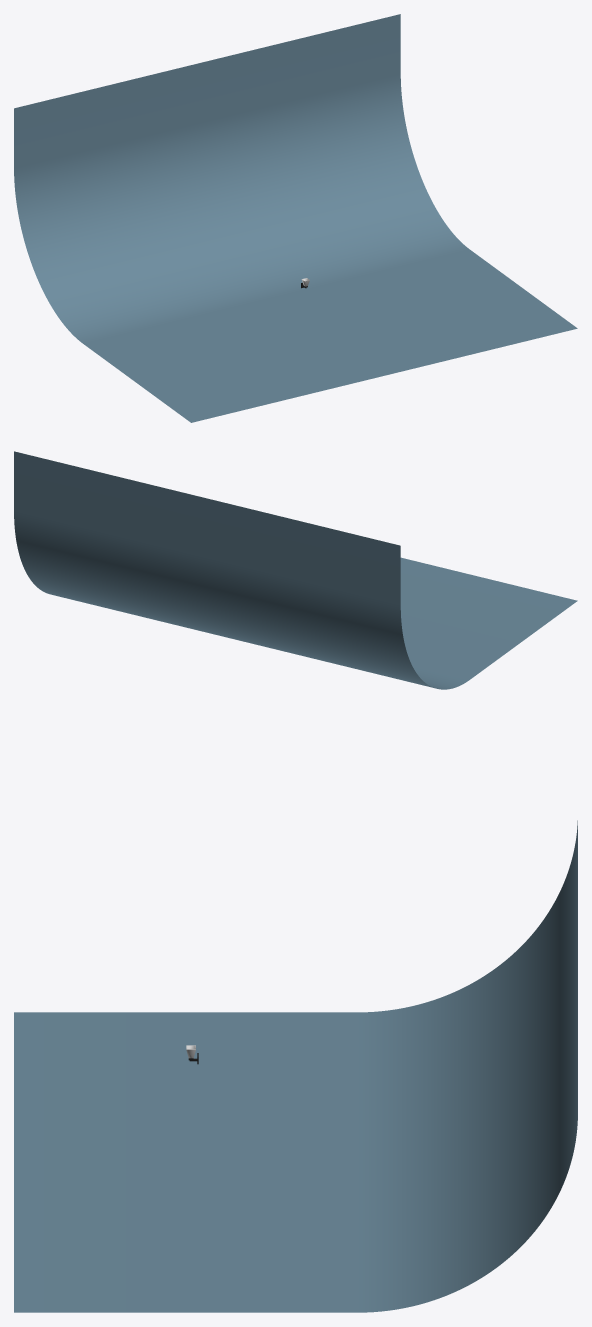
The model's file is lampka_korytarz.FBX.
3 views of the same model, one above another, from view 1: azimuth 30°, elevation 25°; view 2: azimuth 150°, elevation 25°; view 3: azimuth 270°, elevation 25° (orthographic). The views are drawn at different scales.
Parts seen in each view (by area): view 1: Line03; view 2: Line03; view 3: Line03.
Part boxes in pixels (<box>): Line03: <box>14,14,577,422</box>; Line03: <box>14,451,577,689</box>; Line03: <box>14,820,577,1312</box>.
Size of the model in its own units: 5801 by 2649 by 4604.
